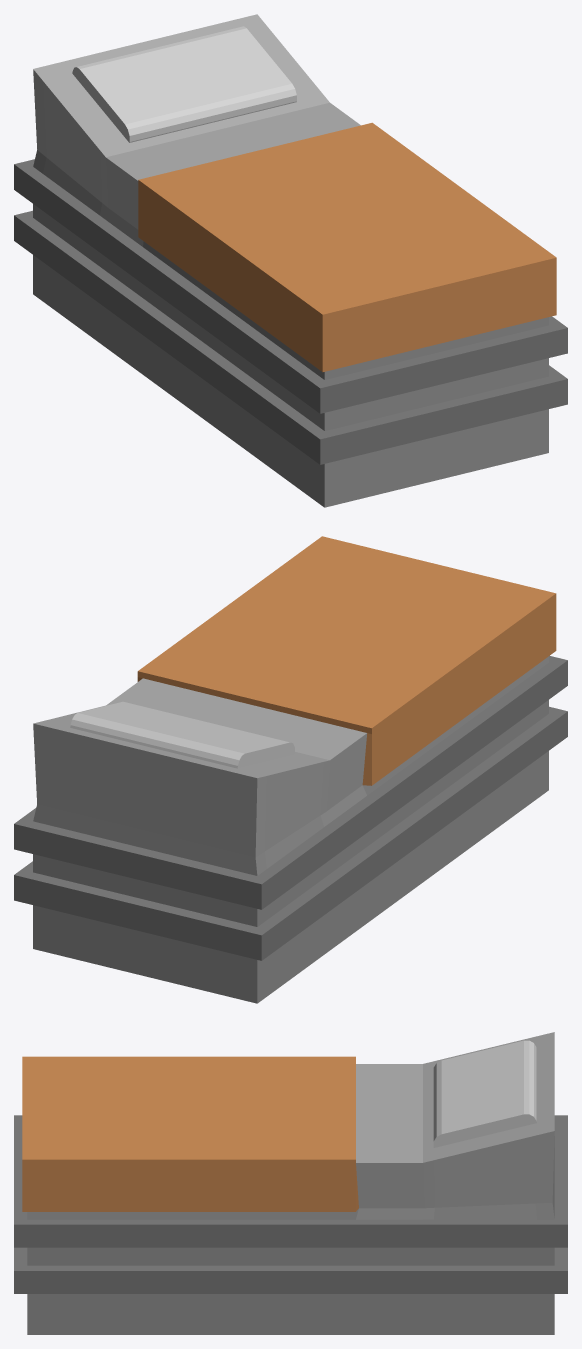
The model's file is SciFiSingleBed1.fbx.
3 views of the same model, one above another, from view 1: azimuth 30°, elevation 25°; view 2: azimuth 150°, elevation 25°; view 3: azimuth 270°, elevation 25° (orthographic). The views are drawn at different scales.
Parts seen in each view (by area): view 1: SingleBed; view 2: SingleBed; view 3: SingleBed.
Part boxes in pixels (bbox=[...]): SingleBed: bbox=[14, 14, 567, 507]; SingleBed: bbox=[14, 536, 567, 1003]; SingleBed: bbox=[14, 1032, 567, 1334].
Size of the model in its own units: 124 by 110 by 265.
